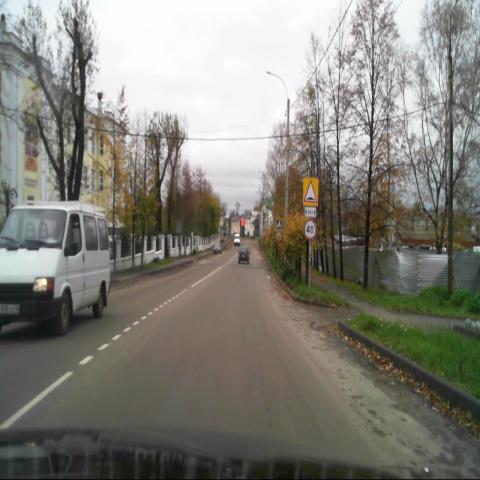1_17: (303, 177, 318, 206)
